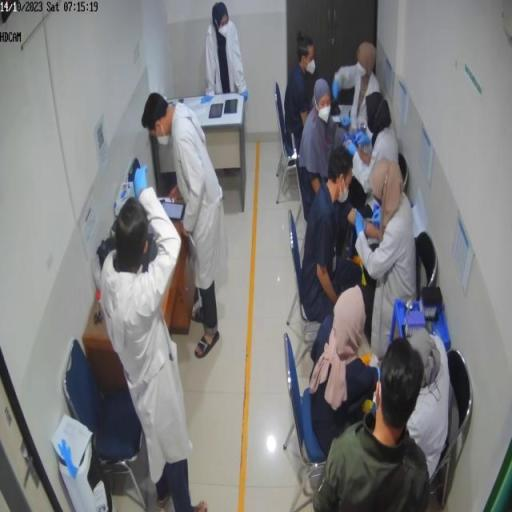person: (101, 190, 210, 511), (142, 94, 231, 359), (316, 339, 432, 510), (309, 286, 380, 462), (355, 155, 418, 352), (302, 146, 365, 327), (406, 328, 451, 480), (298, 79, 343, 222), (354, 95, 400, 197), (333, 42, 383, 132), (206, 3, 249, 103), (284, 35, 317, 156)
